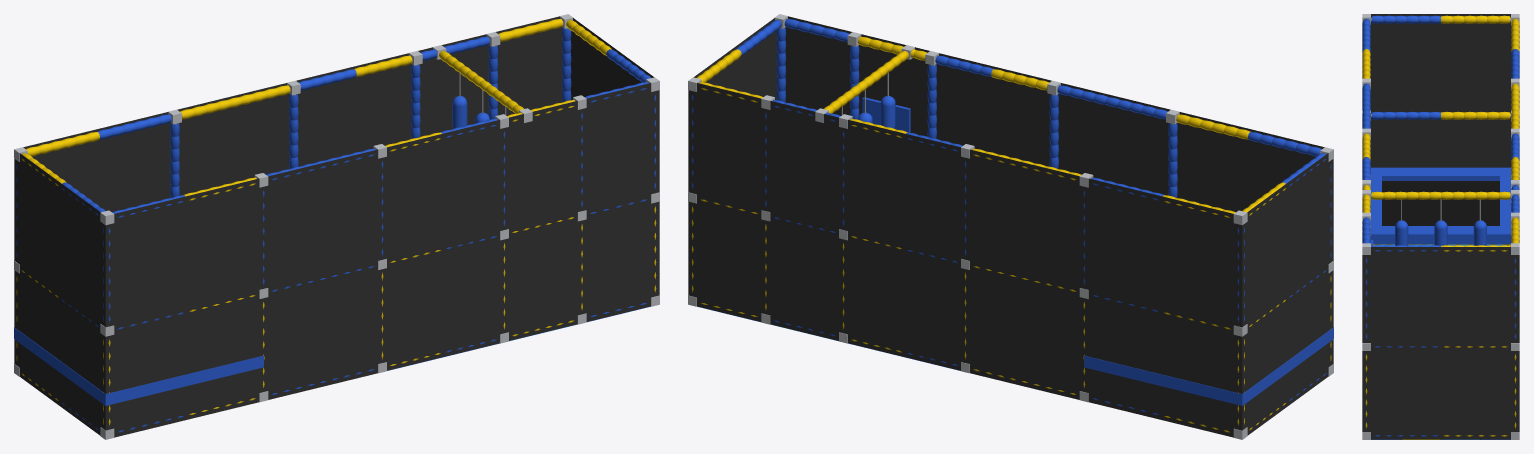
The model's file is web.glb.
3 renders of one model, left to right at view 1: azimuth 30°, elevation 25°; view 2: azimuth 150°, elevation 25°; view 3: azimuth 270°, elevation 25°, orthographic. The views are drawn at different scales.
Parts seen in each view (by area): view 1: rede, isotubo, acolchoado, metal; view 2: rede, isotubo, acolchoado, metal, plataforma; view 3: rede, isotubo, acolchoado, borracha, metal.
Boxes of the visible parts, box(x1,y1,x2,y2) form: rede: box(14, 16, 659, 437); isotubo: box(16, 19, 656, 432); acolchoado: box(14, 96, 489, 405); metal: box(14, 14, 659, 439); rede: box(688, 16, 1333, 437); isotubo: box(691, 19, 1331, 432); acolchoado: box(858, 96, 1333, 405); metal: box(688, 14, 1333, 439); plataforma: box(862, 97, 910, 132); rede: box(1362, 14, 1519, 439); isotubo: box(1362, 15, 1519, 436); acolchoado: box(1362, 167, 1519, 245); borracha: box(1382, 181, 1499, 225); metal: box(1362, 14, 1519, 439).
Bounding box in the file's own units: 7 × 2.7 × 2.
Materials: 9 (9 with a texture image).
